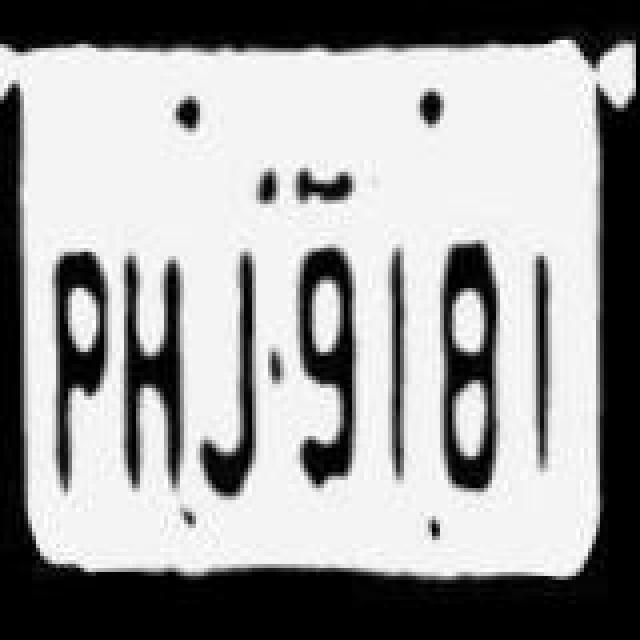1: (524, 244, 584, 492), (380, 224, 432, 480)
8: (430, 234, 518, 494)
9: (292, 230, 376, 494)
H: (116, 248, 196, 508)
J: (202, 248, 274, 504)
P: (32, 228, 116, 508)
